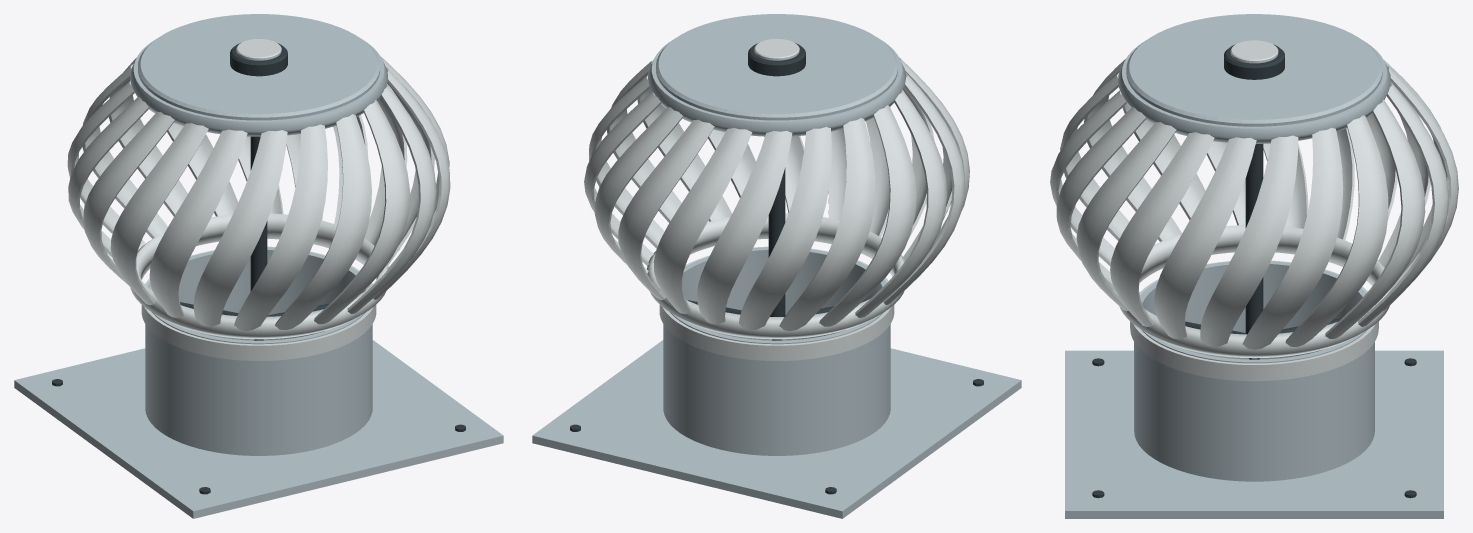
Rendered from city-roof-turbine-vent.glb.
3 renders of one model, left to right at view 1: azimuth 30°, elevation 25°; view 2: azimuth 150°, elevation 25°; view 3: azimuth 270°, elevation 25°, orthographic. The views are drawn at different scales.
Parts seen in each view (by area): view 1: Assembly | Satin galvanized appearance steel, Assembly | Light formed aluminum, Assembly | Graphite mechanical fittings; view 2: Assembly | Satin galvanized appearance steel, Assembly | Light formed aluminum, Assembly | Graphite mechanical fittings; view 3: Assembly | Satin galvanized appearance steel, Assembly | Light formed aluminum, Assembly | Graphite mechanical fittings.
Part boxes in pixels (x1,y1,x2,y2): Assembly | Satin galvanized appearance steel: (14,14,503,518); Assembly | Light formed aluminum: (67,39,450,360); Assembly | Graphite mechanical fittings: (52,43,465,494); Assembly | Satin galvanized appearance steel: (532,14,1021,518); Assembly | Light formed aluminum: (584,39,969,360); Assembly | Graphite mechanical fittings: (570,43,983,494); Assembly | Satin galvanized appearance steel: (1065,14,1443,518); Assembly | Light formed aluminum: (1050,40,1458,381); Assembly | Graphite mechanical fittings: (1092,44,1416,498).
Size of the model in its own units: 0.7334 by 0.7695 by 0.7334.
